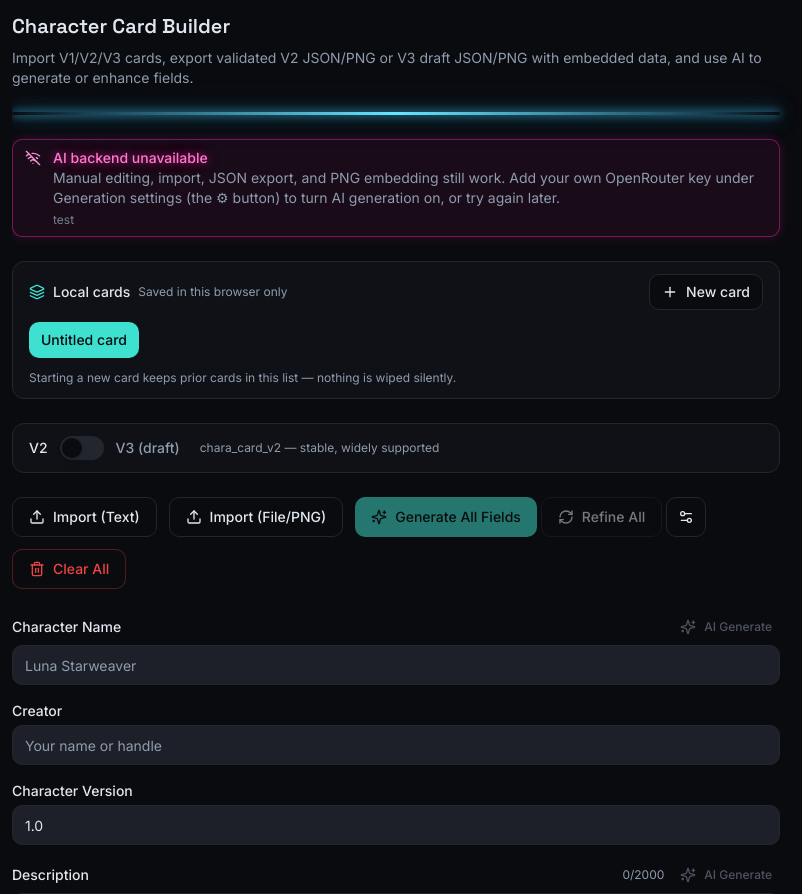
Scenario: CharacterCardBuilder multi-card + lossy V2 › keeps the first card after New card
The image size is (802, 894).
In the field labelled "Character Name": (396, 665) left=12, top=645, right=780, bottom=685, type "Maya"
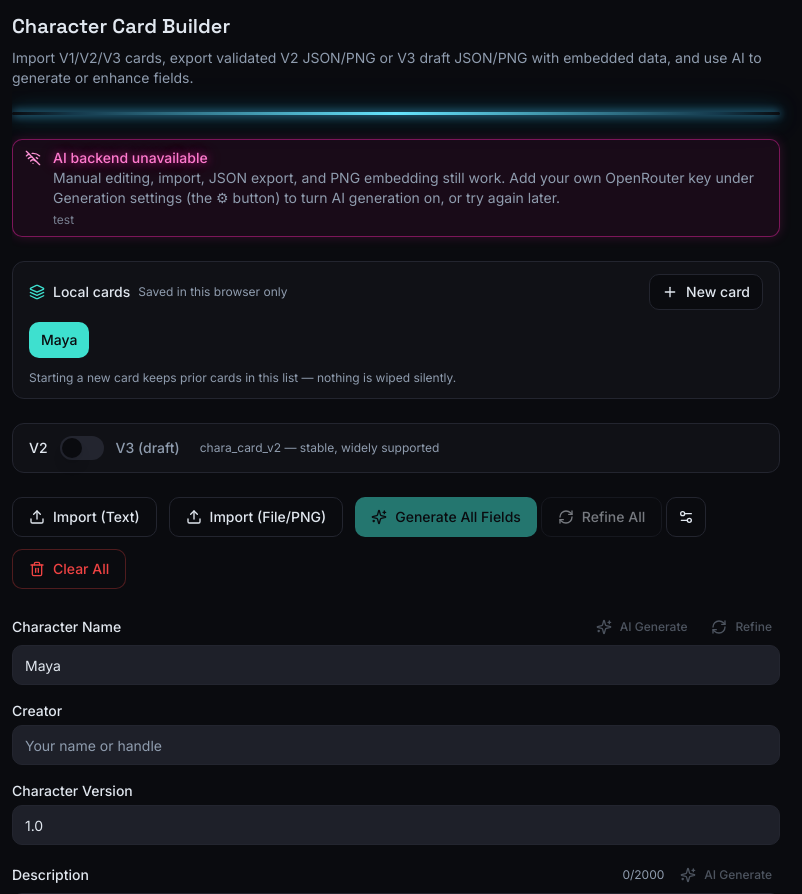
Click the button with test id "new-card-button": (706, 292) left=649, top=274, right=763, bottom=310
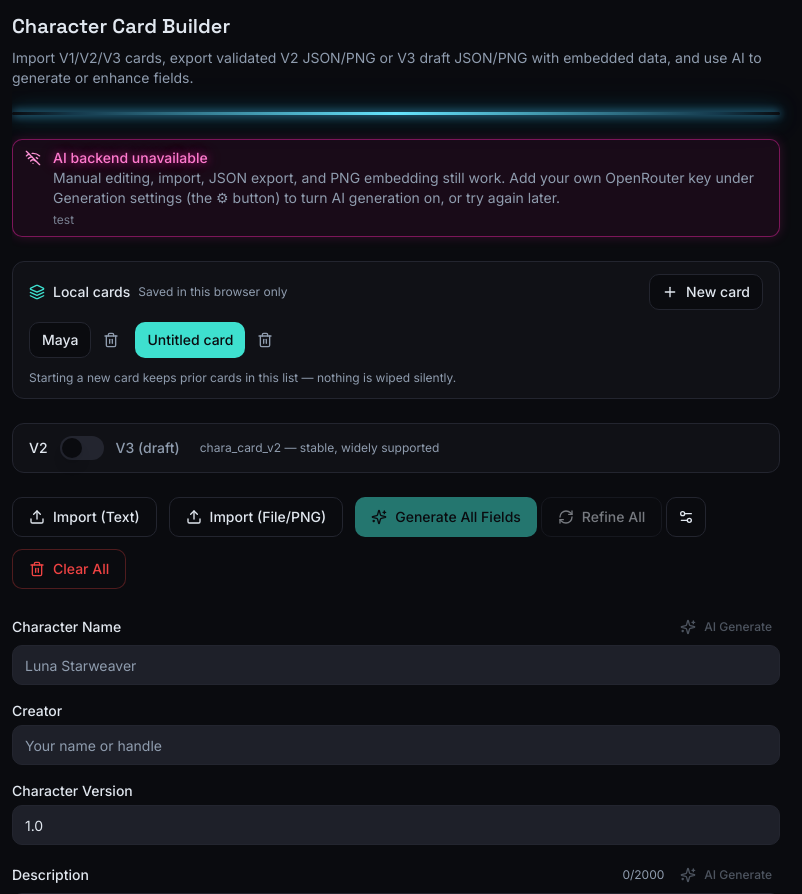
Result: the button "Maya" is shown at left=29, top=322, right=91, bottom=358
Result: the field labelled "Character Name" is empty at left=12, top=645, right=780, bottom=685
